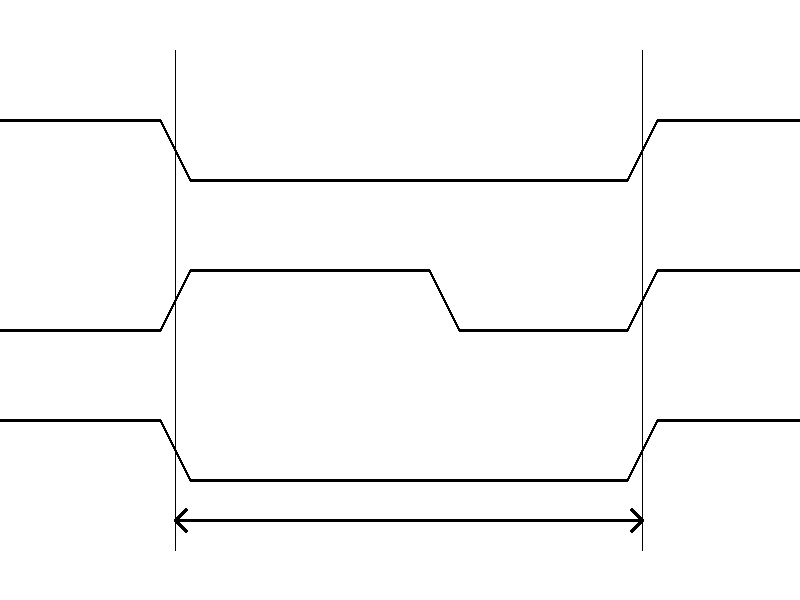double_arrow: (175, 505, 642, 535)
